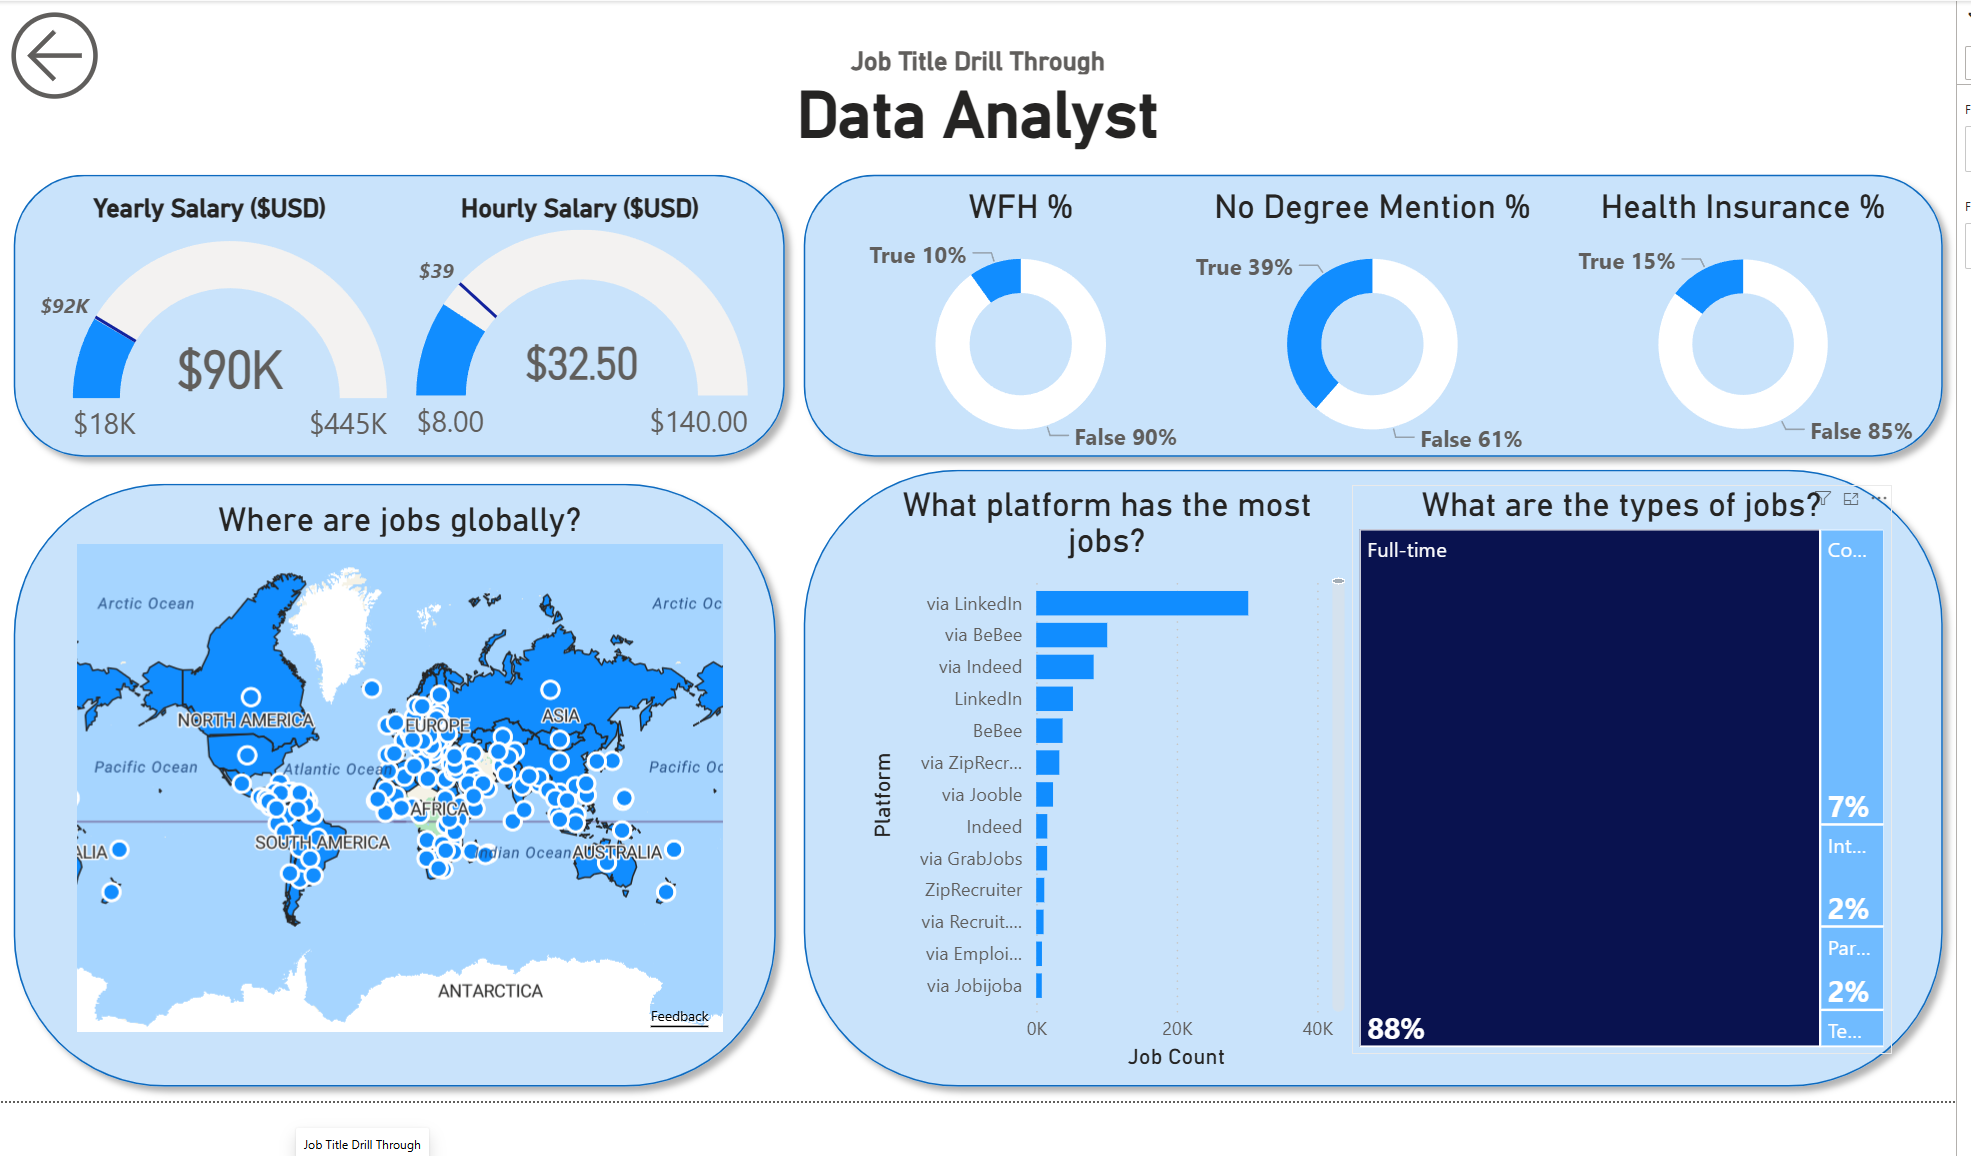

The page's visual inventory and layout, read from the dashboard file:
{"tool":"powerbi","page":{"name":"Job Title Drill Through","canvas":[1280,720],"ordinal":1},"visuals":[{"type":"group","id":"g1","title":"Group 1","box":[0,105,1280,615],"z":0},{"type":"shape","box":[0,105,522.5,202.5],"z":0,"group":"g1"},{"type":"cardVisual","fields":{"Data":["Min(job_postings_flat.job_title_short)1"]},"box":[324.3,0,631.4,125.7],"z":1000},{"type":"shape","box":[516.7,105,763.3,202.5],"z":1000,"group":"g1"},{"type":"actionButton","box":[0,0,94.3,71.4],"z":2000},{"type":"shape","box":[516.7,298.3,763.3,421.7],"z":2000,"group":"g1"},{"type":"gauge","title":"Yearly Salary ($USD)","fields":{"Y":["Median(job_postings_flat.salary_year_avg)"],"MinValue":["Min(job_postings_flat.salary_year_avg)1"],"MaxValue":["Max(job_postings_flat.salary_year_avg)2"],"TargetValue":["Avg(job_postings_flat.salary_year_avg)3"]},"box":[15.8,125.8,242.5,181.7],"z":3000},{"type":"shape","box":[0,307.5,516.7,412.5],"z":3000,"group":"g1"},{"type":"gauge","title":"Hourly Salary ($USD)","fields":{"Y":["Median(job_postings_flat.salary_hour_avg)"],"MinValue":["Min(job_postings_flat.salary_hour_avg)"],"MaxValue":["Max(job_postings_flat.salary_hour_avg)"],"TargetValue":["Avg(job_postings_flat.salary_hour_avg)1"]},"box":[258.3,125.8,241.7,172.5],"z":4000},{"type":"donutChart","title":"WFH %","fields":{"Y":["CountNonNull(job_postings_flat.job_title)"],"Category":["job_postings_flat.job_work_from_home"]},"box":[539.2,121.7,257.5,181.7],"z":5000},{"type":"donutChart","title":"No Degree Mention %","fields":{"Y":["CountNonNull(job_postings_flat.job_title)"],"Category":["job_postings_flat.job_no_degree_mention"]},"box":[769.2,121.7,258.3,181.7],"z":6000},{"type":"donutChart","title":"Health Insurance %","fields":{"Y":["CountNonNull(job_postings_flat.job_title)"],"Category":["job_postings_flat.job_health_insurance"]},"box":[1016.7,121.7,247.5,181.7],"z":7000},{"type":"treemap","title":"What are the types of jobs?","fields":{"Values":["CountNonNull(job_postings_flat.job_title)"],"Group":["job_postings_flat.job_schedule_type"]},"box":[885,316.7,353.3,372.5],"z":8000},{"type":"azureMap","title":"Where are jobs globally?","fields":{"Category":["job_postings_flat.job_country"],"X":["CountNonNull(job_postings_flat.job_location)"]},"box":[45,326.7,433.3,353.3],"z":9000},{"type":"barChart","title":"What platform has the most jobs?","fields":{"Category":["job_postings_flat.job_via"],"Y":["CountNonNull(job_postings_flat.job_title_short)"]},"box":[564.2,316.7,320.8,386.7],"z":10000}]}

Visuals, with their boxes on the page's 1280x720 design canvas (x1, y1, x2, y2). These are canvas units, not pixel positions in the 1971x1156 screenshot, which may show the page scaled, cropped or inside an application window:
"Group 1" group: bbox(0, 105, 1280, 720)
shape: bbox(0, 105, 522, 308)
cardVisual - Min(job_postings_flat.job_title_short)1: bbox(324, 0, 956, 126)
shape: bbox(517, 105, 1280, 308)
actionButton: bbox(0, 0, 94, 71)
shape: bbox(517, 298, 1280, 720)
"Yearly Salary ($USD)" gauge: bbox(16, 126, 258, 308)
shape: bbox(0, 308, 517, 720)
"Hourly Salary ($USD)" gauge: bbox(258, 126, 500, 298)
"WFH %" donutChart: bbox(539, 122, 797, 303)
"No Degree Mention %" donutChart: bbox(769, 122, 1028, 303)
"Health Insurance %" donutChart: bbox(1017, 122, 1264, 303)
"What are the types of jobs?" treemap: bbox(885, 317, 1238, 689)
"Where are jobs globally?" azureMap: bbox(45, 327, 478, 680)
"What platform has the most jobs?" barChart: bbox(564, 317, 885, 703)
